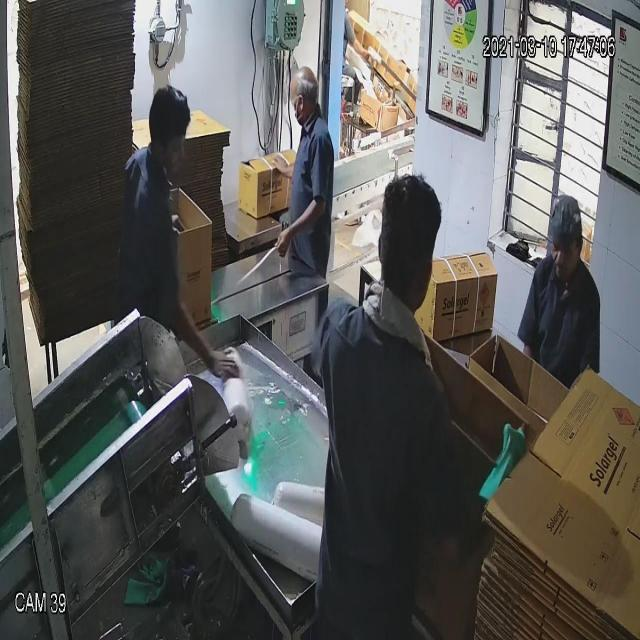No_Gloves: (64, 74, 301, 331)
